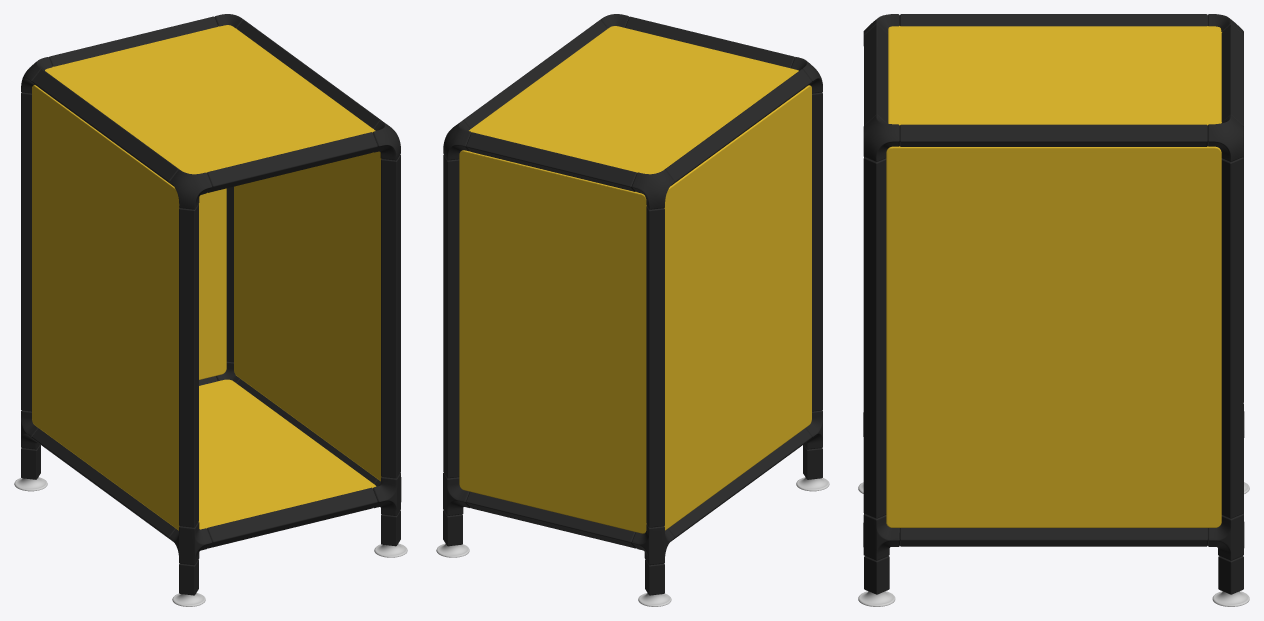
3 views of the same model, side by side, from view 1: azimuth 30°, elevation 25°; view 2: azimuth 150°, elevation 25°; view 3: azimuth 270°, elevation 25° (orthographic). The views are drawn at different scales.
Parts seen in each view (by area): view 1: 229x329x420; view 2: 229x329x420; view 3: 229x329x420.
Boxes of the visible parts, <box> form: 229x329x420: <box>14,14,407,606</box>; 229x329x420: <box>436,14,829,606</box>; 229x329x420: <box>858,14,1249,606</box>.
Bounding box in the file's own units: 0.3189 × 0.5593 × 0.4182.
